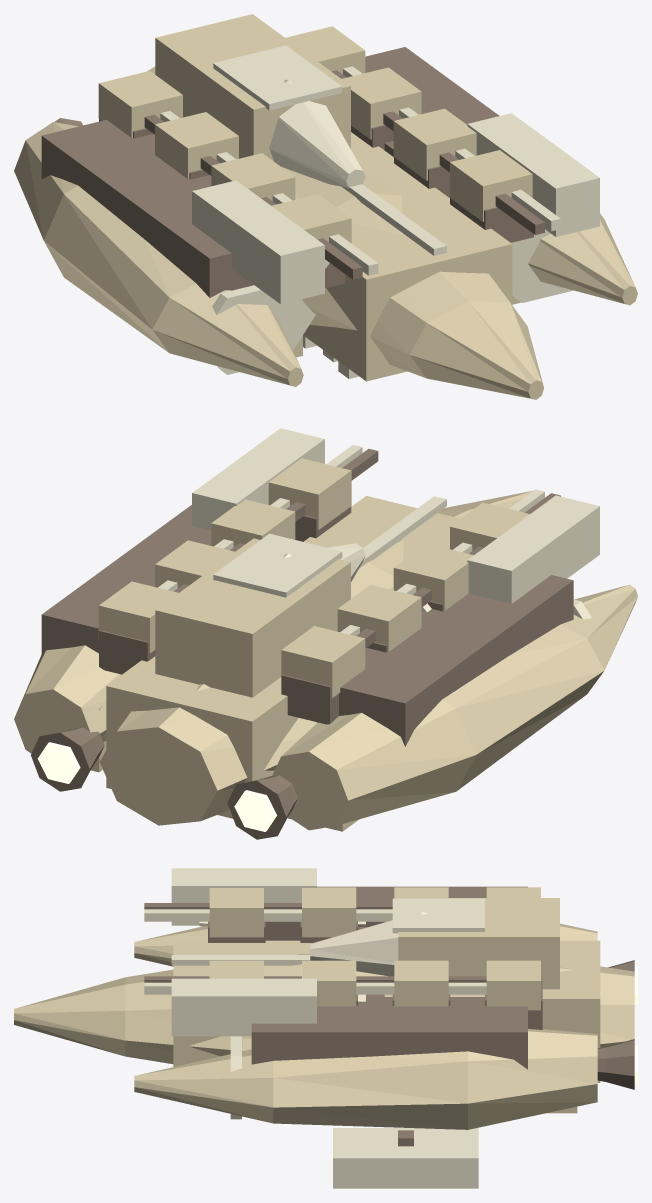
3 renders of one model, top to bottom at view 1: azimuth 30°, elevation 25°; view 2: azimuth 150°, elevation 25°; view 3: azimuth 270°, elevation 25°, orthographic. The views are drawn at different scales.
Bounding box in the file's own units: 14.96 × 7.08 × 21.62.
